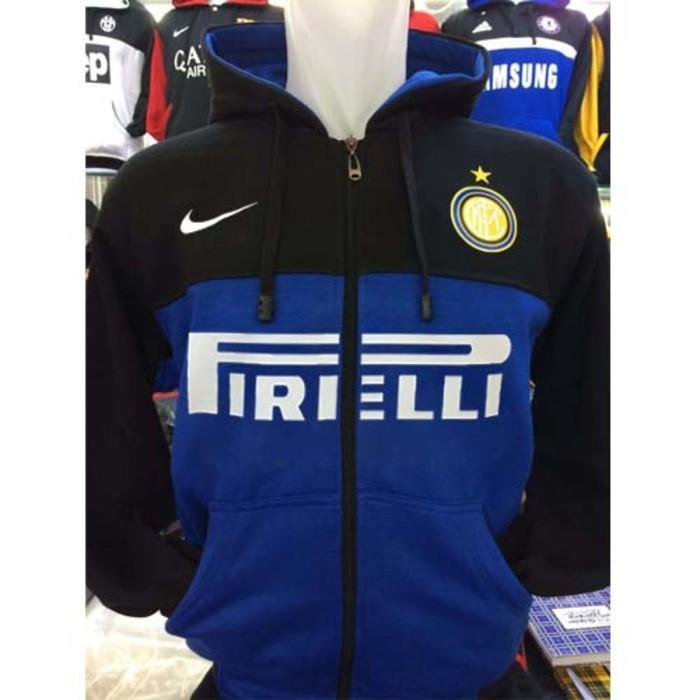jacket: (77, 14, 612, 700)
